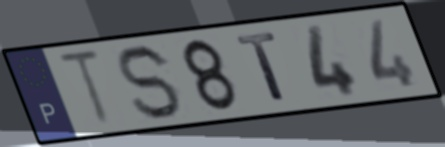4: (306, 21, 361, 99), (365, 17, 419, 90)
8: (179, 36, 242, 116)
S: (117, 42, 184, 123)
T: (53, 47, 115, 130), (232, 30, 291, 105)
